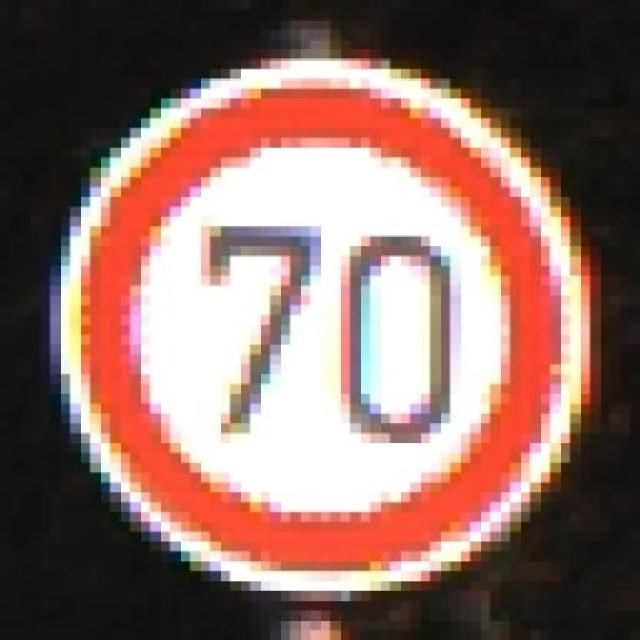forb_speed_over_70: (64, 63, 573, 585)
